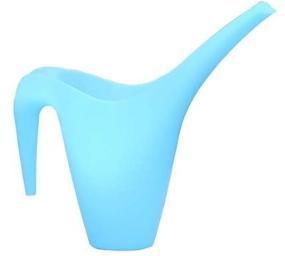ARROSOIR: (9, 0, 279, 252)
